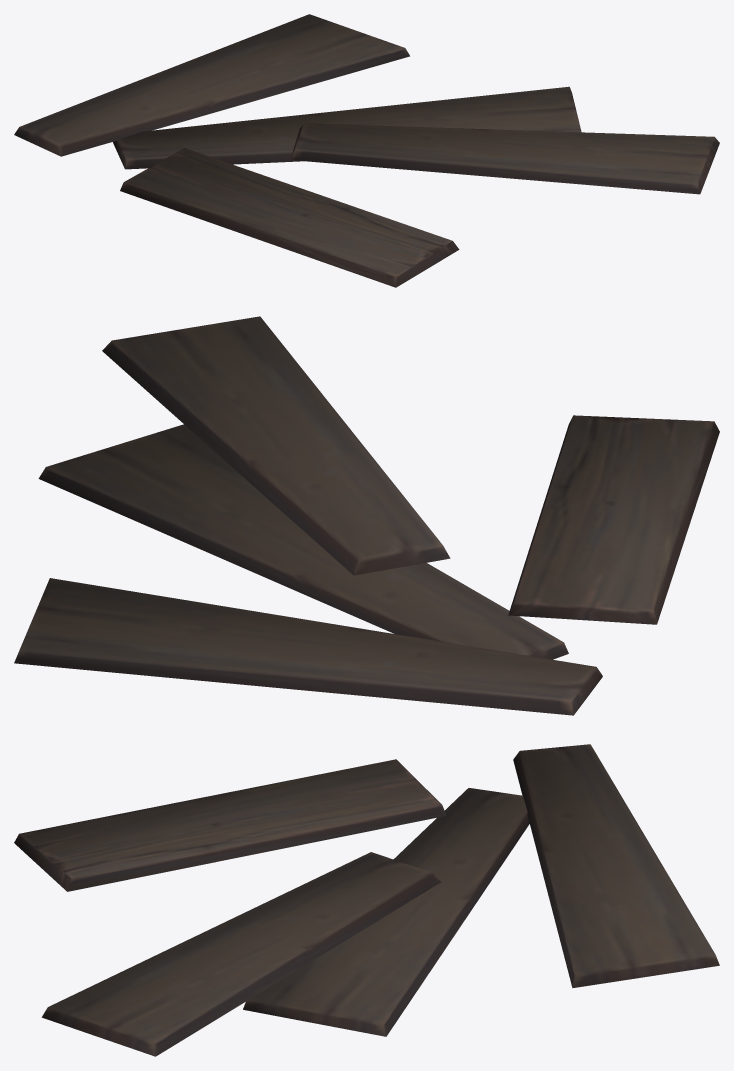
Rendered from Area_15_17.fbx.
3 renders of one model, top to bottom at view 1: azimuth 30°, elevation 25°; view 2: azimuth 150°, elevation 25°; view 3: azimuth 270°, elevation 25°, orthographic. The views are drawn at different scales.
Visible parts, largest first — view 1: Area_15_17; view 2: Area_15_17; view 3: Area_15_17.
Boxes of the visible parts, bbox=[...] form: Area_15_17: bbox=[14, 14, 719, 287]; Area_15_17: bbox=[14, 316, 719, 715]; Area_15_17: bbox=[14, 744, 719, 1056].
Size of the model in its own units: 278 by 8.83 by 273.
